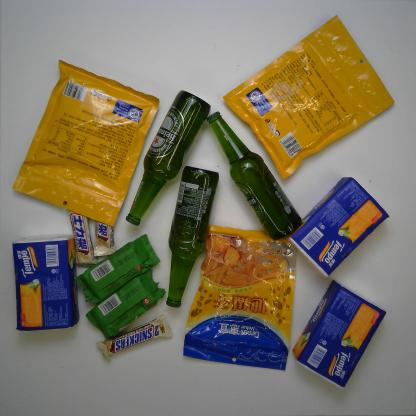Alcohol: (208, 112, 302, 242), (124, 89, 212, 226), (165, 165, 220, 308)
Chocolate: (98, 315, 176, 366), (64, 208, 97, 267), (94, 198, 117, 258)
Dessert: (76, 234, 162, 302), (86, 268, 167, 340)
Dried Fruit: (221, 14, 396, 182), (9, 59, 161, 227), (181, 224, 297, 372)
Tissue: (291, 280, 388, 390), (289, 176, 390, 277), (13, 235, 80, 332)
